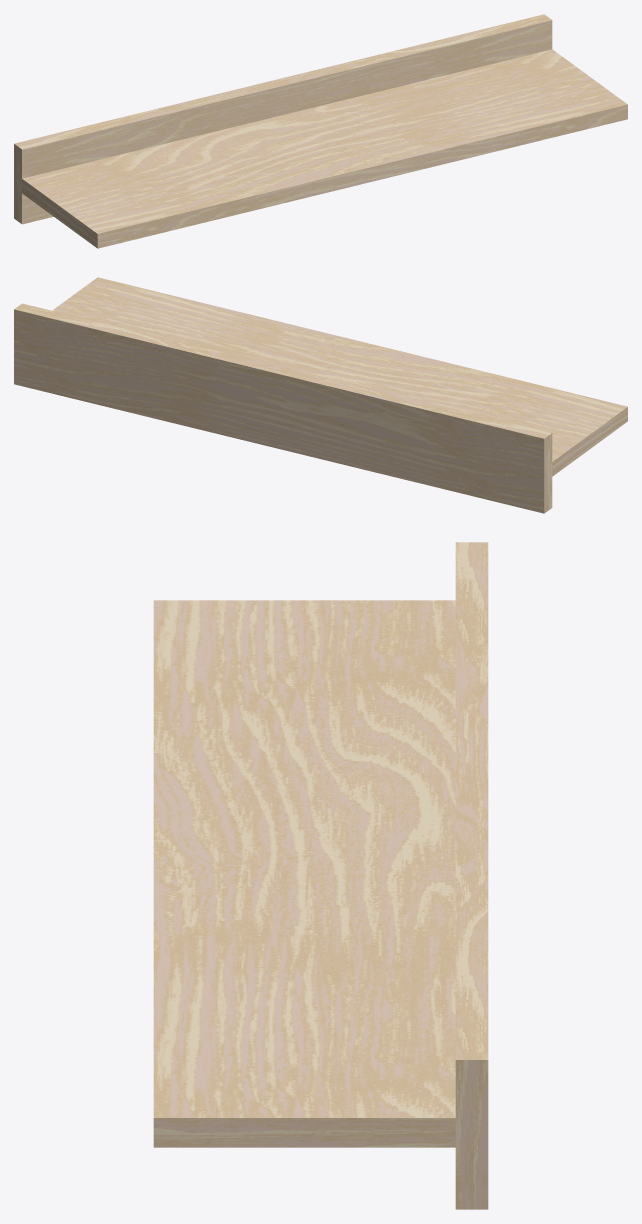
The model's file is wall_cabinet_015.fbx.
3 renders of one model, top to bottom at view 1: azimuth 30°, elevation 25°; view 2: azimuth 150°, elevation 25°; view 3: azimuth 270°, elevation 25°, orthographic. The views are drawn at different scales.
Visible parts, largest first — view 1: wall_cabinet_015; view 2: wall_cabinet_015; view 3: wall_cabinet_015.
Part boxes in pixels (x1=…): wall_cabinet_015: x1=14, y1=14, x2=627, y2=248; wall_cabinet_015: x1=14, y1=277, x2=627, y2=513; wall_cabinet_015: x1=153, y1=542, x2=488, y2=1209.
Size of the model in its own units: 156 by 42.65 by 21.06.
